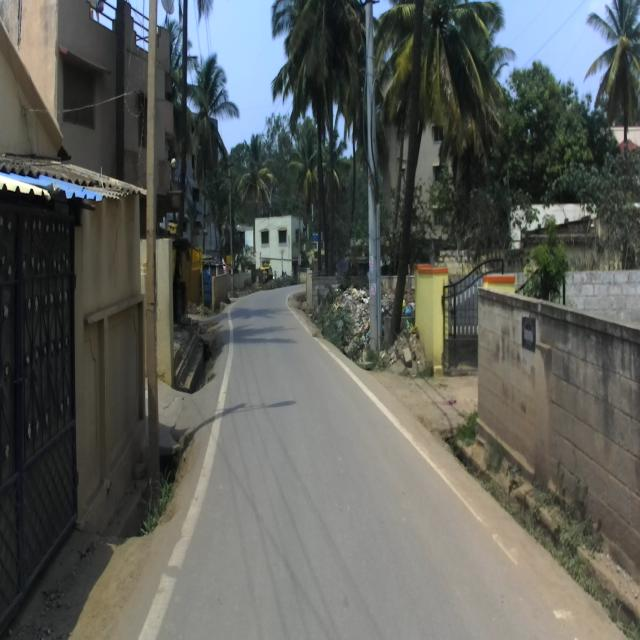electric pole ahead at: (138, 0, 177, 516), (362, 0, 384, 367)
